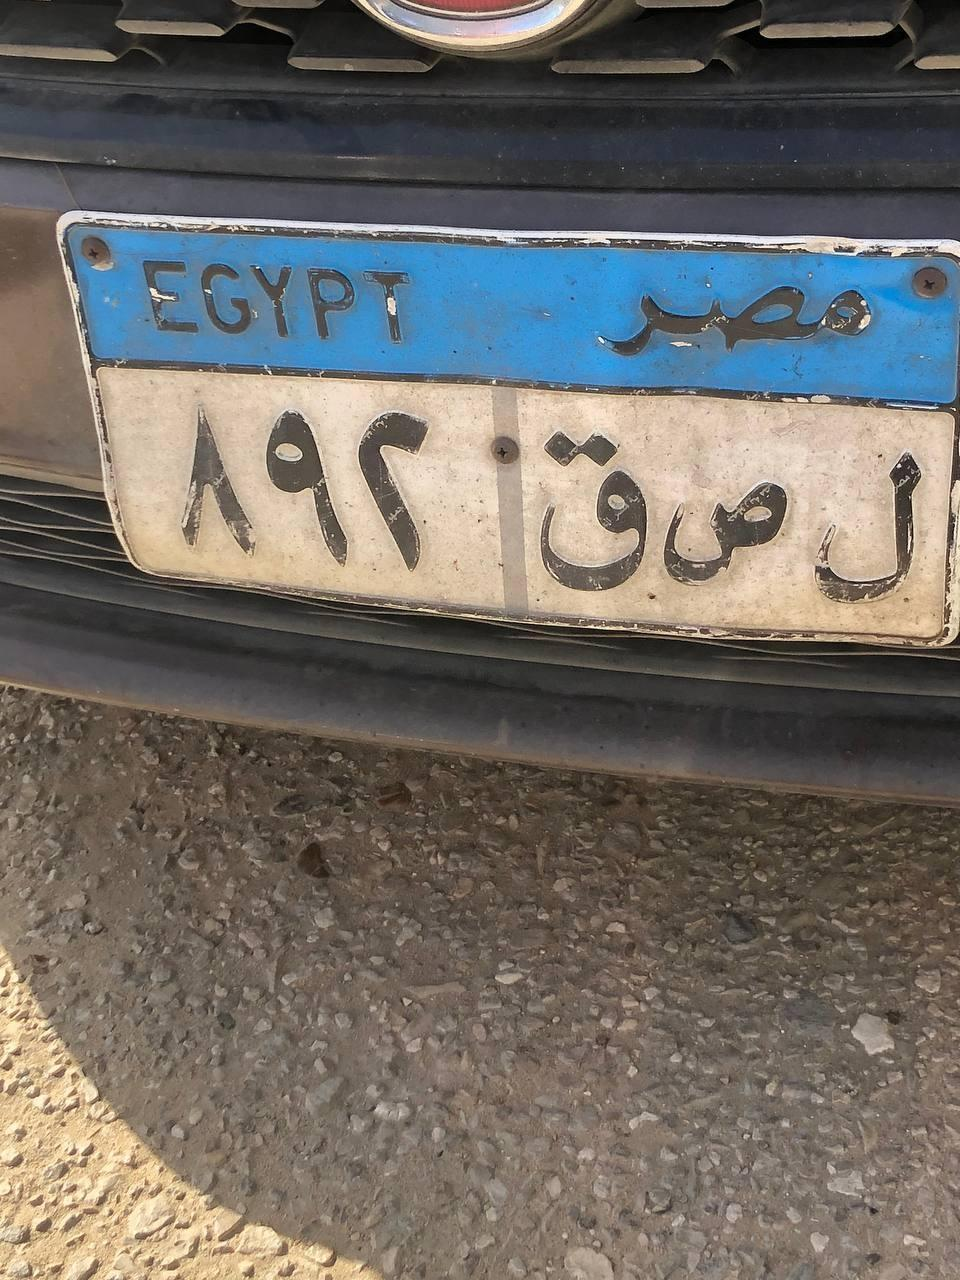2: (356, 406, 450, 564)
8: (166, 398, 252, 548)
9: (255, 408, 368, 574)
Laam: (808, 426, 927, 620)
License Plate: (53, 206, 958, 662)
Q: (526, 418, 648, 588)
Saad: (666, 478, 794, 584)
